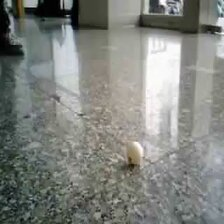w: (126, 141, 144, 163)
